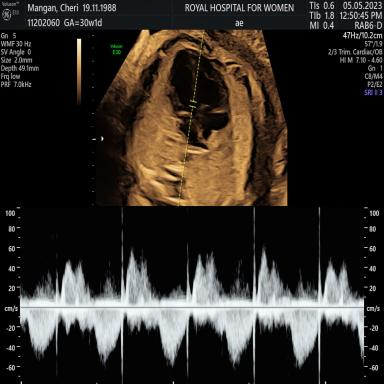Ultrasound-Waves: (26, 209, 363, 384)
